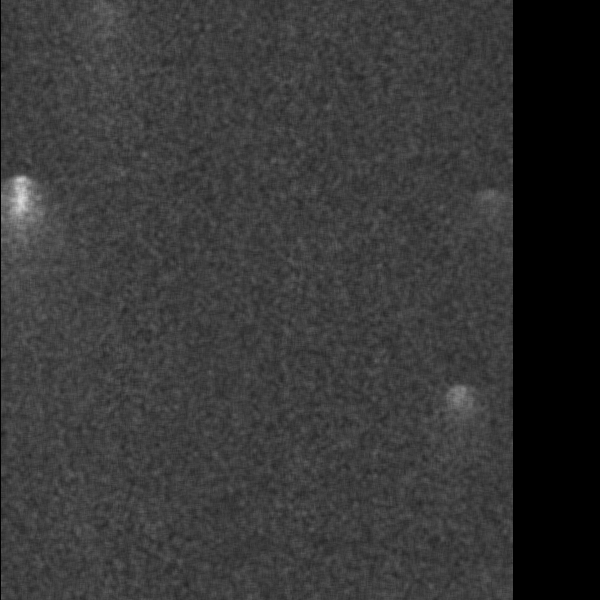spark: (457, 94, 484, 156)
